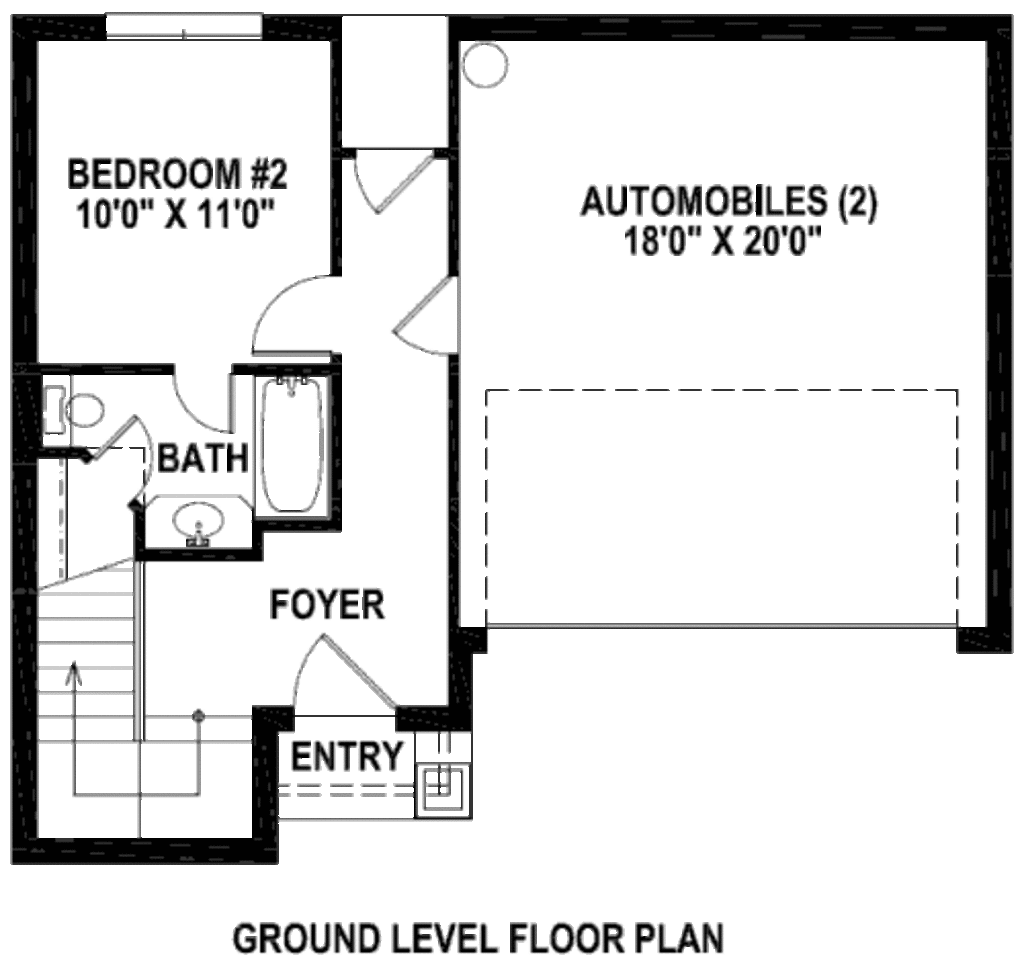door: (292, 633, 393, 719), (378, 275, 468, 361), (243, 277, 340, 355), (87, 415, 171, 505), (346, 144, 434, 218), (164, 365, 239, 434)
large_sink: (30, 368, 128, 443)
small_sink: (152, 492, 264, 550)
stairs: (27, 553, 258, 837)
tub: (247, 374, 333, 519)
window: (108, 12, 264, 43)
